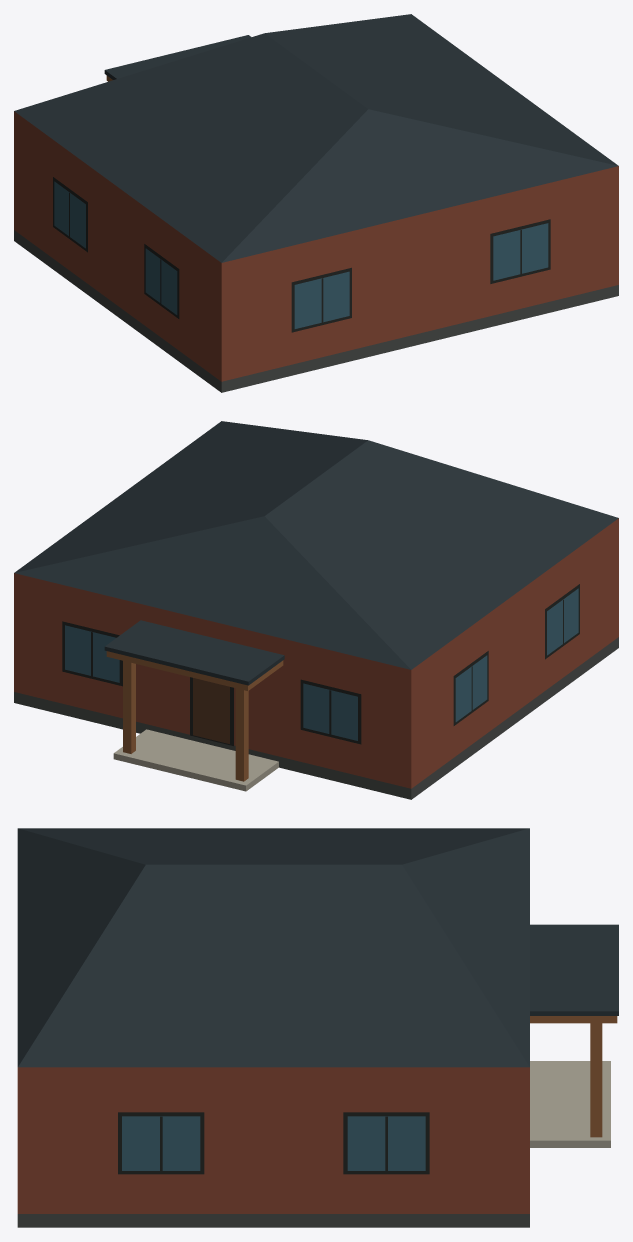
3 renders of one model, top to bottom at view 1: azimuth 30°, elevation 25°; view 2: azimuth 150°, elevation 25°; view 3: azimuth 270°, elevation 25°, orthographic. The views are drawn at different scales.
Bounding box in the file's own units: 10.64 × 4.98 × 11.22.
